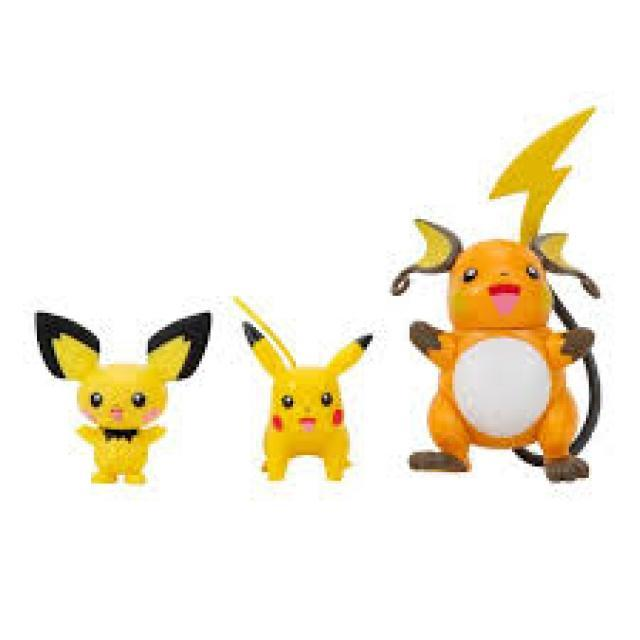pichu: (34, 297, 228, 489)
